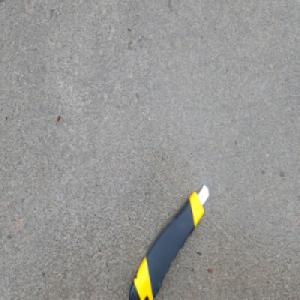Cutter: (126, 182, 210, 300)
